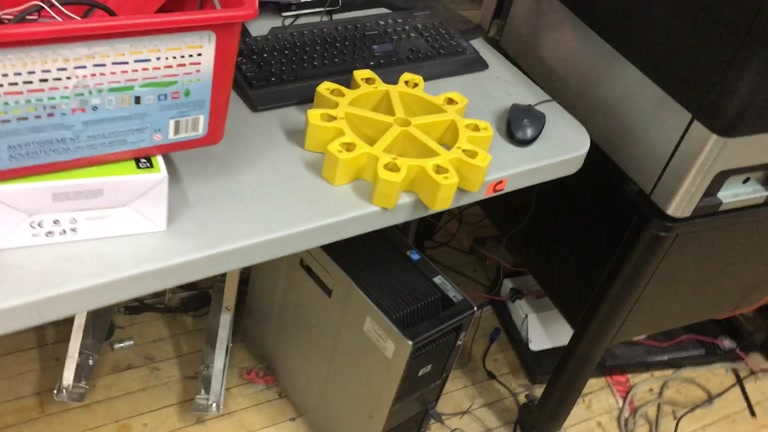gear: (300, 68, 496, 211)
